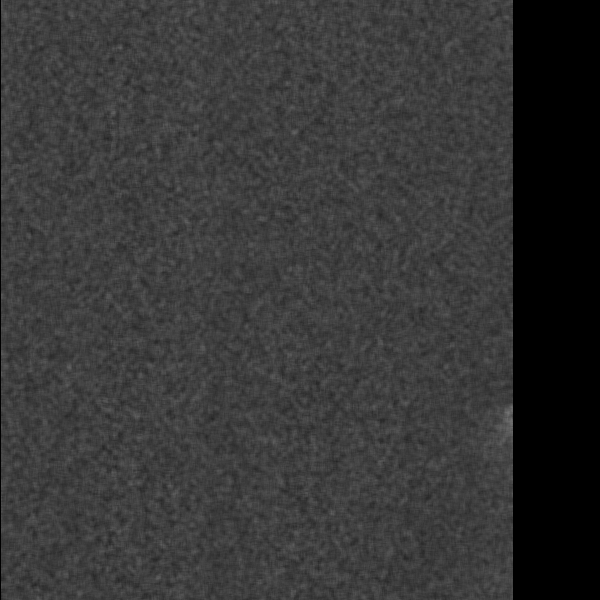spark: (100, 458, 206, 483), (426, 343, 514, 372)
